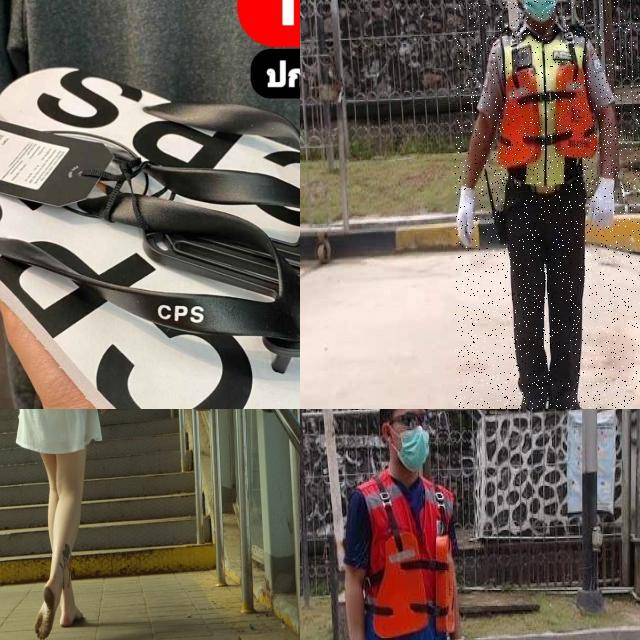Barefoots: (34, 580, 56, 640), (60, 604, 84, 627)
Sandals: (0, 41, 300, 409)
boots: (546, 391, 597, 409), (510, 392, 549, 409)
person: (455, 0, 640, 409)
vest: (353, 473, 455, 640), (498, 28, 597, 189)
